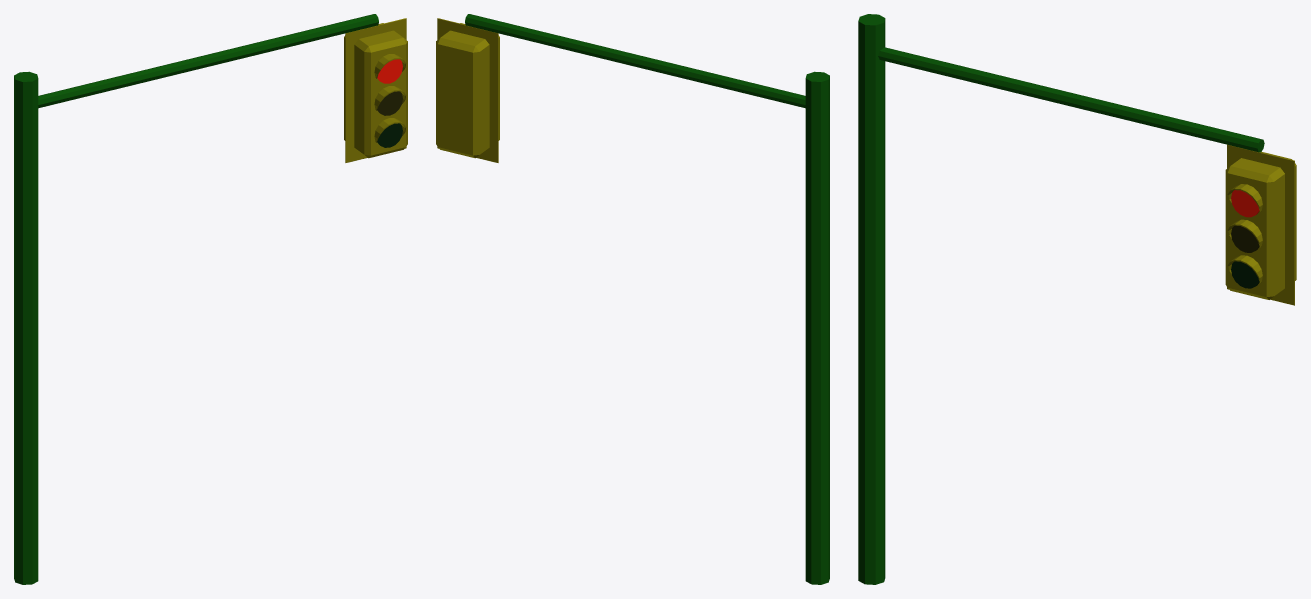
File: traffic-light-red.fbx
The picture shows the model from 3 angles, left to right: view 1: azimuth 30°, elevation 25°; view 2: azimuth 150°, elevation 25°; view 3: azimuth 330°, elevation 25°; orthographic projection. The views are drawn at different scales.
Visible parts, largest first — view 1: pole, box, arm, frame; view 2: pole, box, arm, frame; view 3: pole, box, arm, frame, green light, red light.
Boxes of the visible parts, x1,y1,x2,y2 form: pole: (14,71,38,584); box: (344,23,407,158); arm: (38,14,378,108); frame: (345,18,406,162); pole: (805,71,829,584); box: (436,23,499,158); arm: (465,14,805,108); frame: (437,18,498,162); pole: (858,14,885,584); box: (1225,151,1296,299); arm: (878,47,1264,152); frame: (1227,144,1294,305); green light: (1231,261,1259,288); red light: (1231,190,1259,217).
Bounding box in the file's own units: 895 × 1099 × 123.
